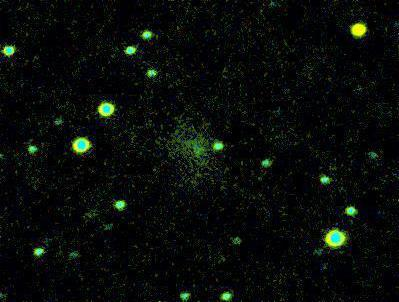star: (342, 14, 372, 44)
